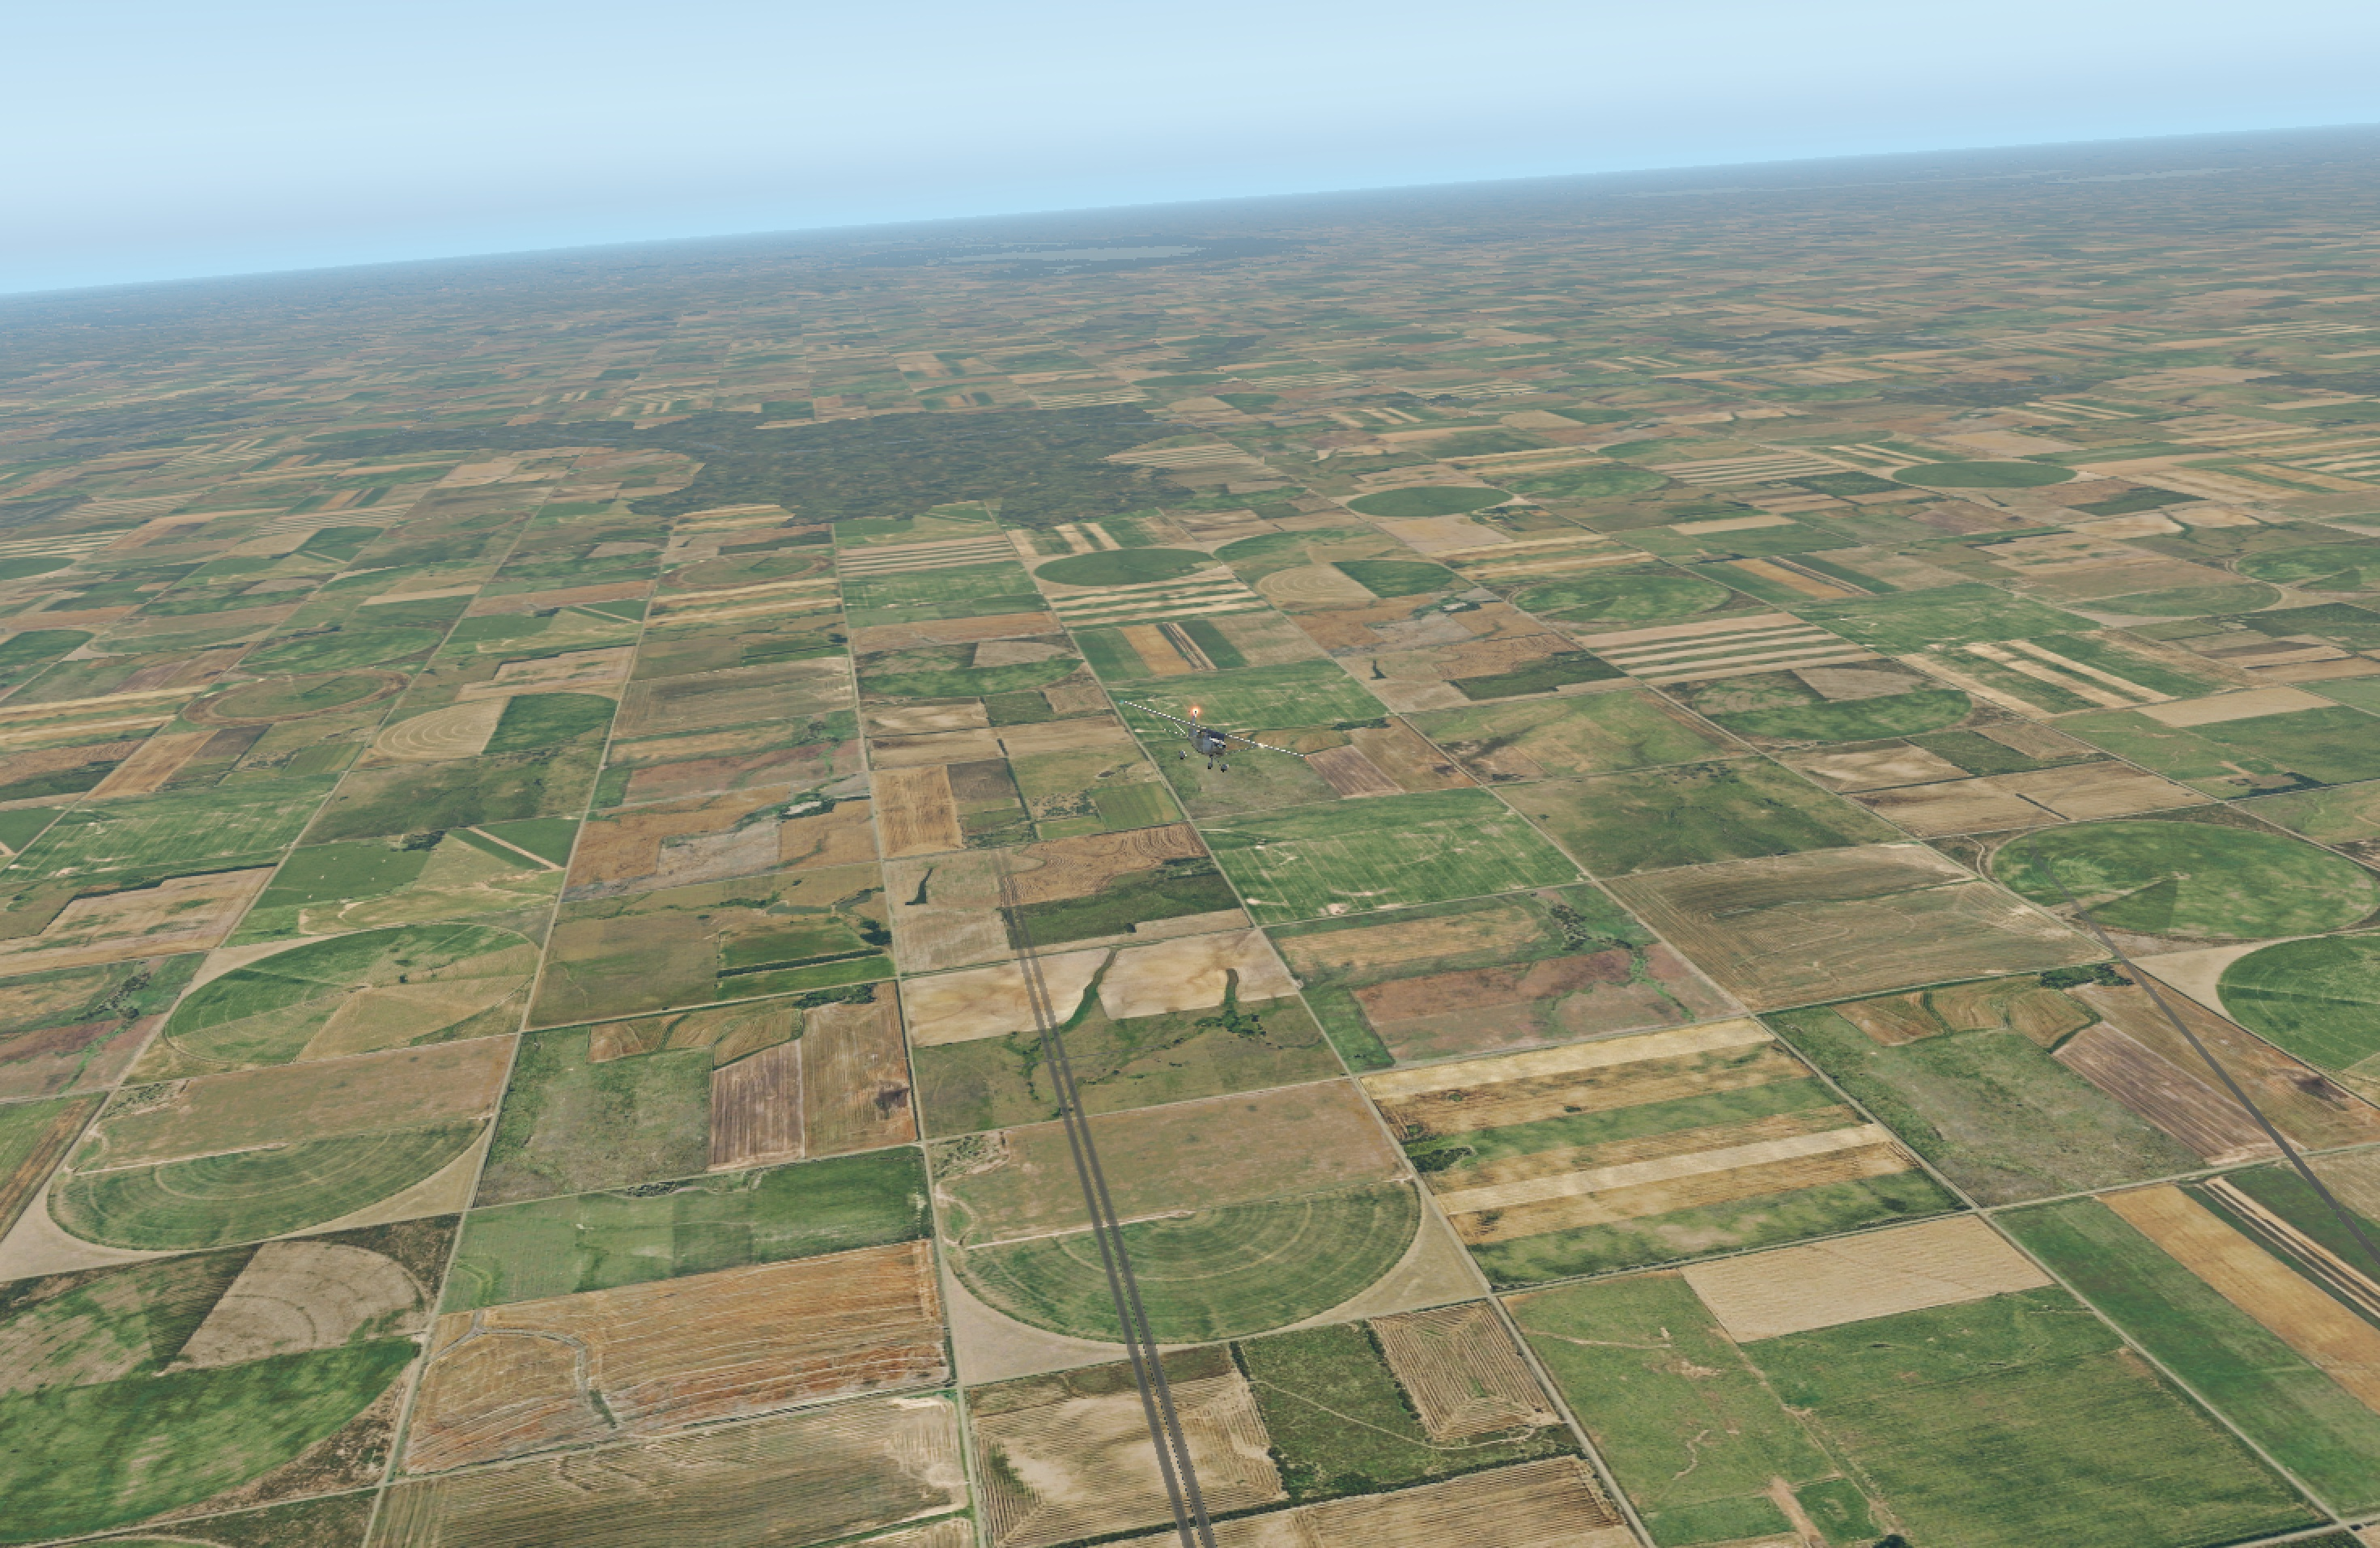aircraft: (1138, 715, 1284, 769)
